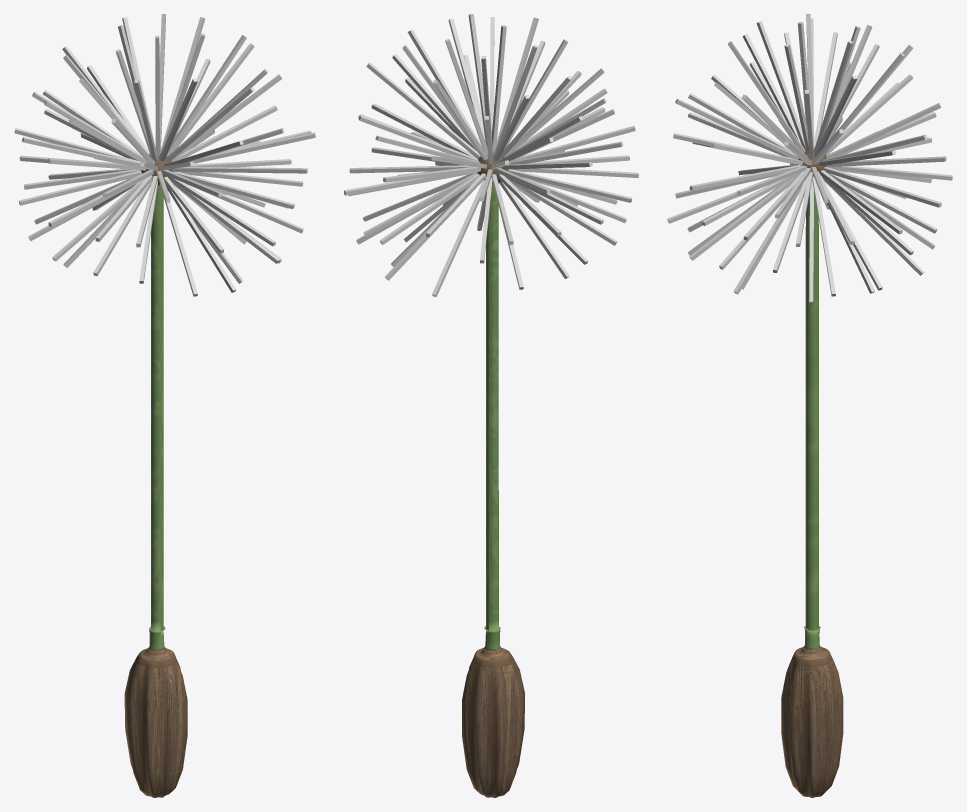
The model's file is mindulre.fbx.
3 views of the same model, side by side, from view 1: azimuth 30°, elevation 25°; view 2: azimuth 150°, elevation 25°; view 3: azimuth 270°, elevation 25° (orthographic).
Visible parts, largest first — view 1: fluff, mandelion; view 2: fluff, mandelion; view 3: fluff, mandelion.
Part boxes in pixels (box(x1,y1,x2,y2)): fluff: box(14, 14, 315, 296); mandelion: box(124, 185, 187, 797); fluff: box(344, 14, 638, 296); mandelion: box(462, 184, 524, 797); fluff: box(667, 14, 952, 302); mandelion: box(781, 192, 843, 797).
Size of the model in its own units: 824 by 2310 by 775.
Materials: 4 (3 with a texture image).
